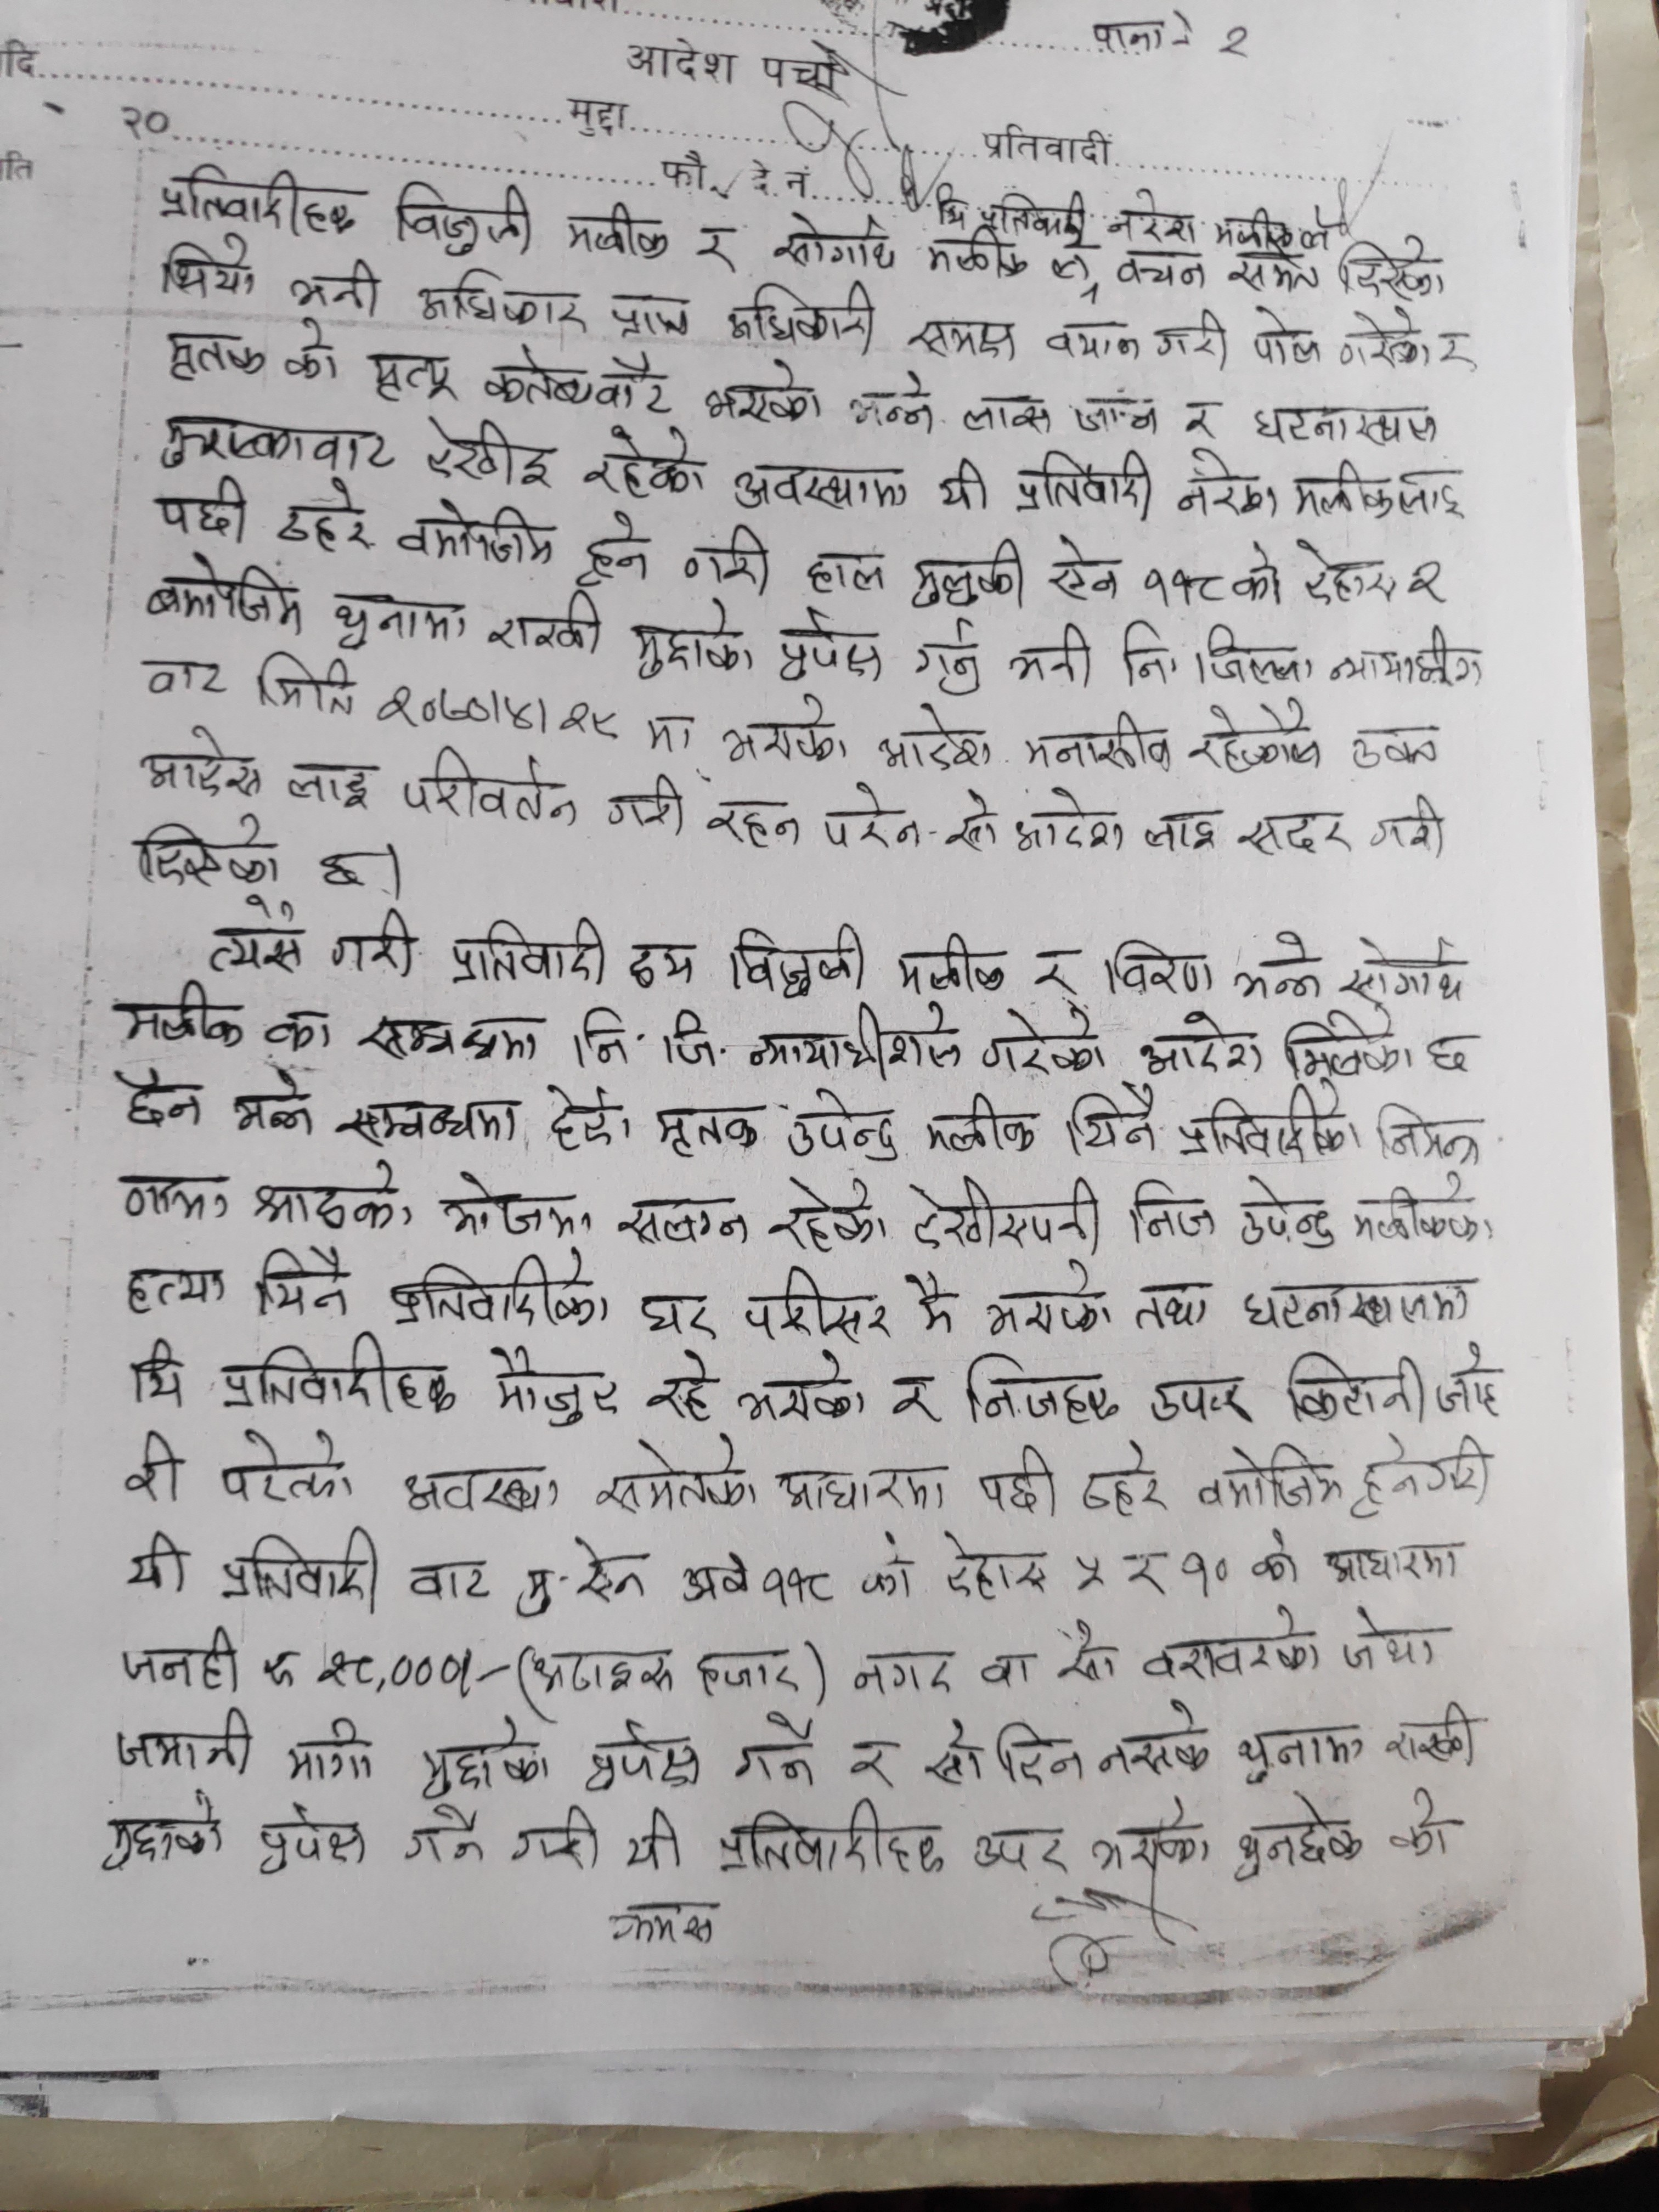text: (220, 1329, 462, 1418), (713, 1797, 950, 1878), (389, 1245, 610, 1331), (897, 1176, 1103, 1259), (746, 1001, 964, 1080), (371, 681, 626, 744), (401, 744, 579, 831), (157, 162, 359, 237), (221, 1522, 385, 1615), (143, 550, 303, 641), (1175, 1089, 1363, 1165), (157, 415, 392, 475), (1229, 1787, 1373, 1885), (1140, 1601, 1323, 1677), (589, 1435, 763, 1515), (1239, 1275, 1481, 1332), (483, 343, 669, 416), (244, 1157, 415, 1231), (735, 1264, 892, 1345), (964, 1350, 1121, 1430), (394, 496, 556, 571), (387, 178, 535, 260), (416, 1716, 554, 1803), (132, 810, 284, 888), (1293, 456, 1473, 523), (415, 266, 592, 333), (507, 1538, 653, 1618), (486, 1345, 626, 1428), (1284, 1348, 1431, 1426), (1349, 1169, 1497, 1245), (979, 1259, 1121, 1339), (723, 277, 877, 350), (450, 916, 603, 989), (436, 1170, 596, 1240), (354, 1010, 547, 1068), (221, 1428, 359, 1508), (627, 601, 758, 685), (1194, 1440, 1351, 1510), (1187, 700, 1324, 779), (1359, 1428, 1493, 1508), (1330, 627, 1492, 693), (566, 1007, 723, 1075), (737, 1348, 870, 1428), (1023, 709, 1175, 779), (331, 1097, 519, 1153), (105, 981, 251, 1052), (727, 925, 866, 1000), (420, 418, 561, 491), (732, 460, 915, 516), (582, 1716, 708, 1796), (978, 1007, 1112, 1082), (103, 1787, 225, 1869), (113, 1709, 256, 1778), (765, 1172, 889, 1252), (769, 1461, 951, 1515), (139, 725, 270, 799), (1279, 1005, 1410, 1080), (779, 1089, 901, 1169), (721, 691, 849, 768), (331, 585, 471, 655), (1094, 1696, 1213, 1778), (584, 423, 716, 496), (1338, 930, 1467, 1005), (1014, 449, 1154, 517), (1089, 1797, 1211, 1874), (261, 1642, 460, 1689), (1134, 1008, 1263, 1080), (769, 206, 899, 275), (704, 355, 824, 430), (1244, 402, 1448, 446), (258, 1797, 371, 1876), (113, 1629, 246, 1695), (481, 585, 606, 655), (1232, 1170, 1337, 1252), (878, 705, 995, 779), (939, 1524, 1053, 1599), (775, 610, 885, 686), (908, 538, 1025, 610), (1234, 1721, 1366, 1784), (401, 1467, 565, 1517), (206, 897, 305, 979), (1194, 622, 1312, 690), (532, 1644, 680, 1698), (1175, 446, 1281, 521), (1333, 235, 1453, 301), (819, 780, 927, 853), (1014, 787, 1127, 857), (1340, 1602, 1453, 1672), (256, 1240, 350, 1324), (920, 1090, 1042, 1155), (1371, 1097, 1485, 1165), (537, 1080, 638, 1155), (1080, 1437, 1173, 1519), (730, 1712, 826, 1791), (1316, 1536, 1467, 1585), (894, 932, 1011, 995), (1232, 928, 1330, 1003), (615, 1197, 753, 1249), (992, 1717, 1087, 1792), (1297, 538, 1399, 608), (277, 479, 375, 552), (1061, 1085, 1162, 1155), (159, 235, 261, 303), (974, 1444, 1063, 1522), (258, 650, 357, 719), (157, 474, 251, 547), (1331, 303, 1432, 371), (504, 1804, 605, 1872), (647, 1101, 758, 1162), (1147, 1369, 1260, 1428), (563, 202, 673, 261), (920, 223, 1030, 282), (331, 907, 422, 979), (1385, 1698, 1478, 1768), (288, 1714, 378, 1784), (1103, 939, 1215, 995), (605, 1898, 723, 1951), (110, 1068, 207, 1130), (122, 1261, 228, 1318), (1009, 620, 1094, 691), (232, 1069, 319, 1139), (908, 618, 985, 697), (701, 798, 805, 855), (113, 1170, 228, 1223), (1127, 1176, 1220, 1240), (850, 1646, 960, 1700), (685, 524, 772, 592), (904, 315, 1021, 366), (1105, 186, 1204, 246), (1234, 806, 1354, 855), (1432, 1339, 1506, 1420), (687, 1646, 798, 1698), (288, 258, 382, 317), (127, 1425, 192, 1510), (579, 510, 653, 583), (401, 1804, 488, 1867), (1345, 723, 1446, 777), (1368, 791, 1448, 859), (164, 329, 267, 381), (847, 371, 938, 430), (643, 1352, 716, 1423), (281, 759, 382, 810), (922, 1716, 986, 1794), (969, 1827, 1075, 1874), (1248, 305, 1323, 371), (1053, 1620, 1127, 1686), (605, 775, 688, 834), (361, 352, 458, 402), (125, 1524, 197, 1592), (617, 1804, 687, 1872), (1387, 1791, 1455, 1860), (1227, 244, 1323, 293), (1047, 319, 1143, 368), (1129, 1278, 1215, 1332), (857, 1527, 915, 1608), (758, 1561, 836, 1618), (1054, 536, 1122, 603), (1117, 620, 1182, 690), (1154, 310, 1232, 366), (680, 1552, 760, 1606), (957, 392, 1056, 434), (129, 1338, 188, 1407), (904, 1268, 962, 1339), (626, 941, 704, 993), (1140, 561, 1223, 610), (408, 1557, 491, 1606), (1115, 244, 1208, 287), (606, 291, 688, 340), (1073, 390, 1164, 434), (805, 550, 889, 597), (277, 319, 338, 383), (945, 789, 1004, 855), (1229, 542, 1286, 606), (638, 1289, 711, 1339), (1249, 1521, 1302, 1590), (1143, 810, 1222, 855), (887, 1369, 946, 1428), (139, 657, 223, 698), (843, 1731, 901, 1789), (1178, 1541, 1234, 1599), (263, 1007, 335, 1050), (938, 458, 997, 510), (974, 1648, 1035, 1696), (1420, 1029, 1476, 1080), (645, 707, 699, 758), (314, 850, 366, 895), (1122, 1548, 1175, 1590), (1066, 1545, 1112, 1592), (1032, 944, 1077, 989), (694, 226, 737, 270), (1436, 329, 1474, 371), (1182, 397, 1218, 441), (1406, 556, 1443, 599)
